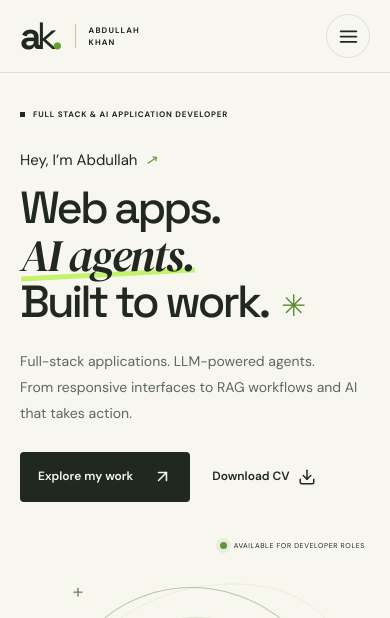
Test: mobile navigation closes on Escape and restores scrolling
Click the button named "Open navigation".
click(348, 36)  # box [326,14,370,58]
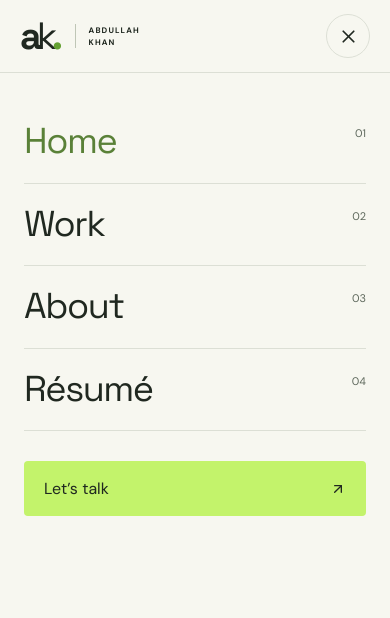
Press Escape
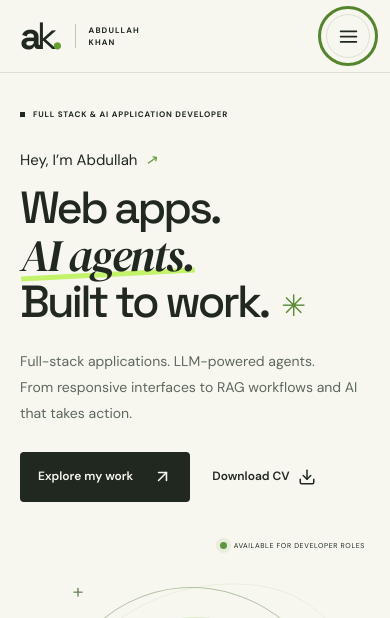
Expected: the button named "Open navigation" is collapsed, [326,14,370,58]
